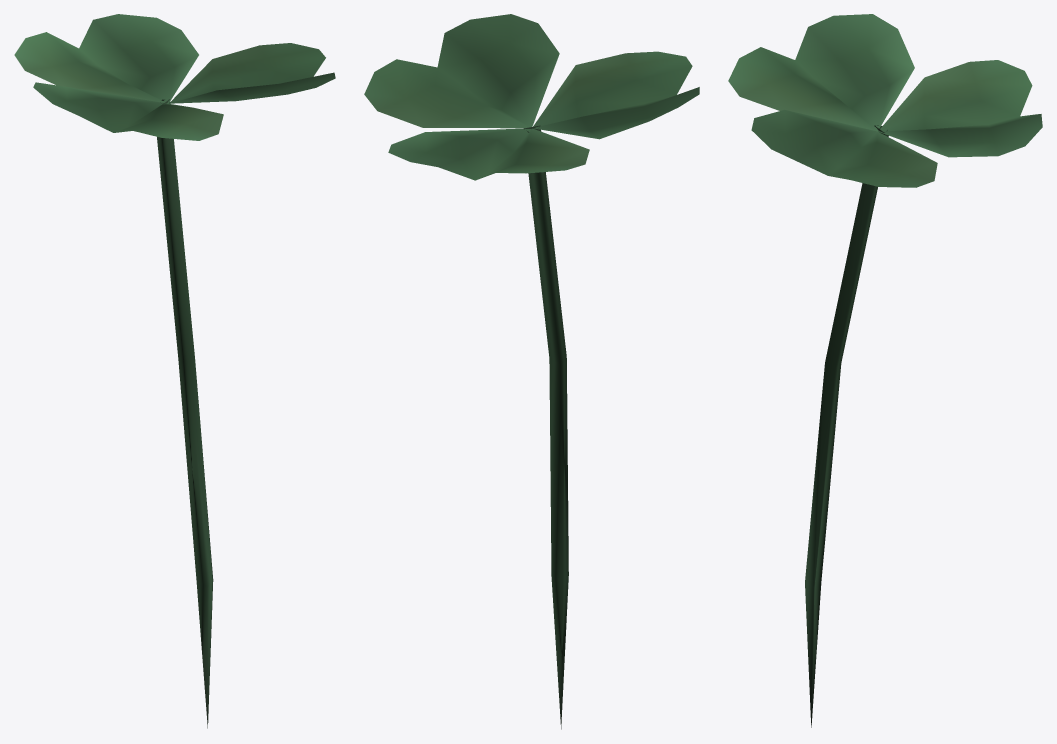
Rendered from plants-leafy-plants-clover_v2.glb.
The picture shows the model from 3 angles, left to right: view 1: azimuth 30°, elevation 25°; view 2: azimuth 150°, elevation 25°; view 3: azimuth 270°, elevation 25°; orthographic projection. The views are drawn at different scales.
Parts seen in each view (by area): view 1: Clover_v2; view 2: Clover_v2; view 3: Clover_v2.
Boxes of the visible parts, box(x1,y1,x2,y2) form: Clover_v2: box(14, 14, 335, 728); Clover_v2: box(364, 14, 699, 729); Clover_v2: box(728, 14, 1042, 727).
Bounding box in the file's own units: 0.0693 × 0.15 × 0.0661.
